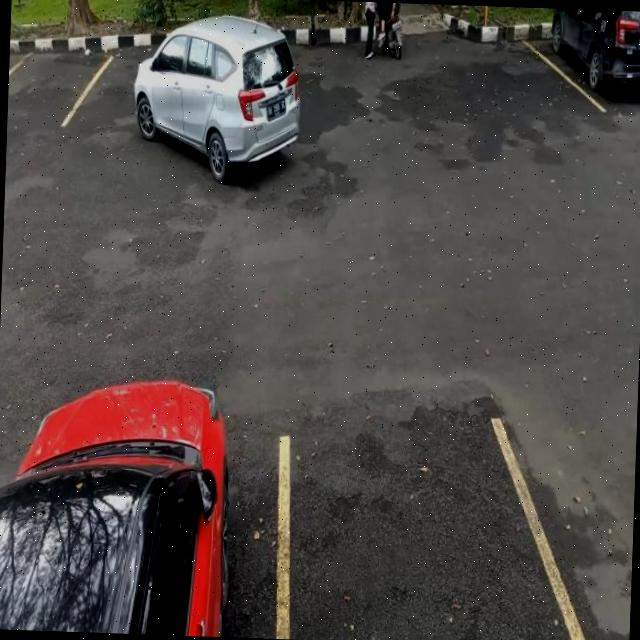empty: (271, 403, 550, 640), (6, 30, 106, 132)
occupied: (546, 8, 640, 112)
